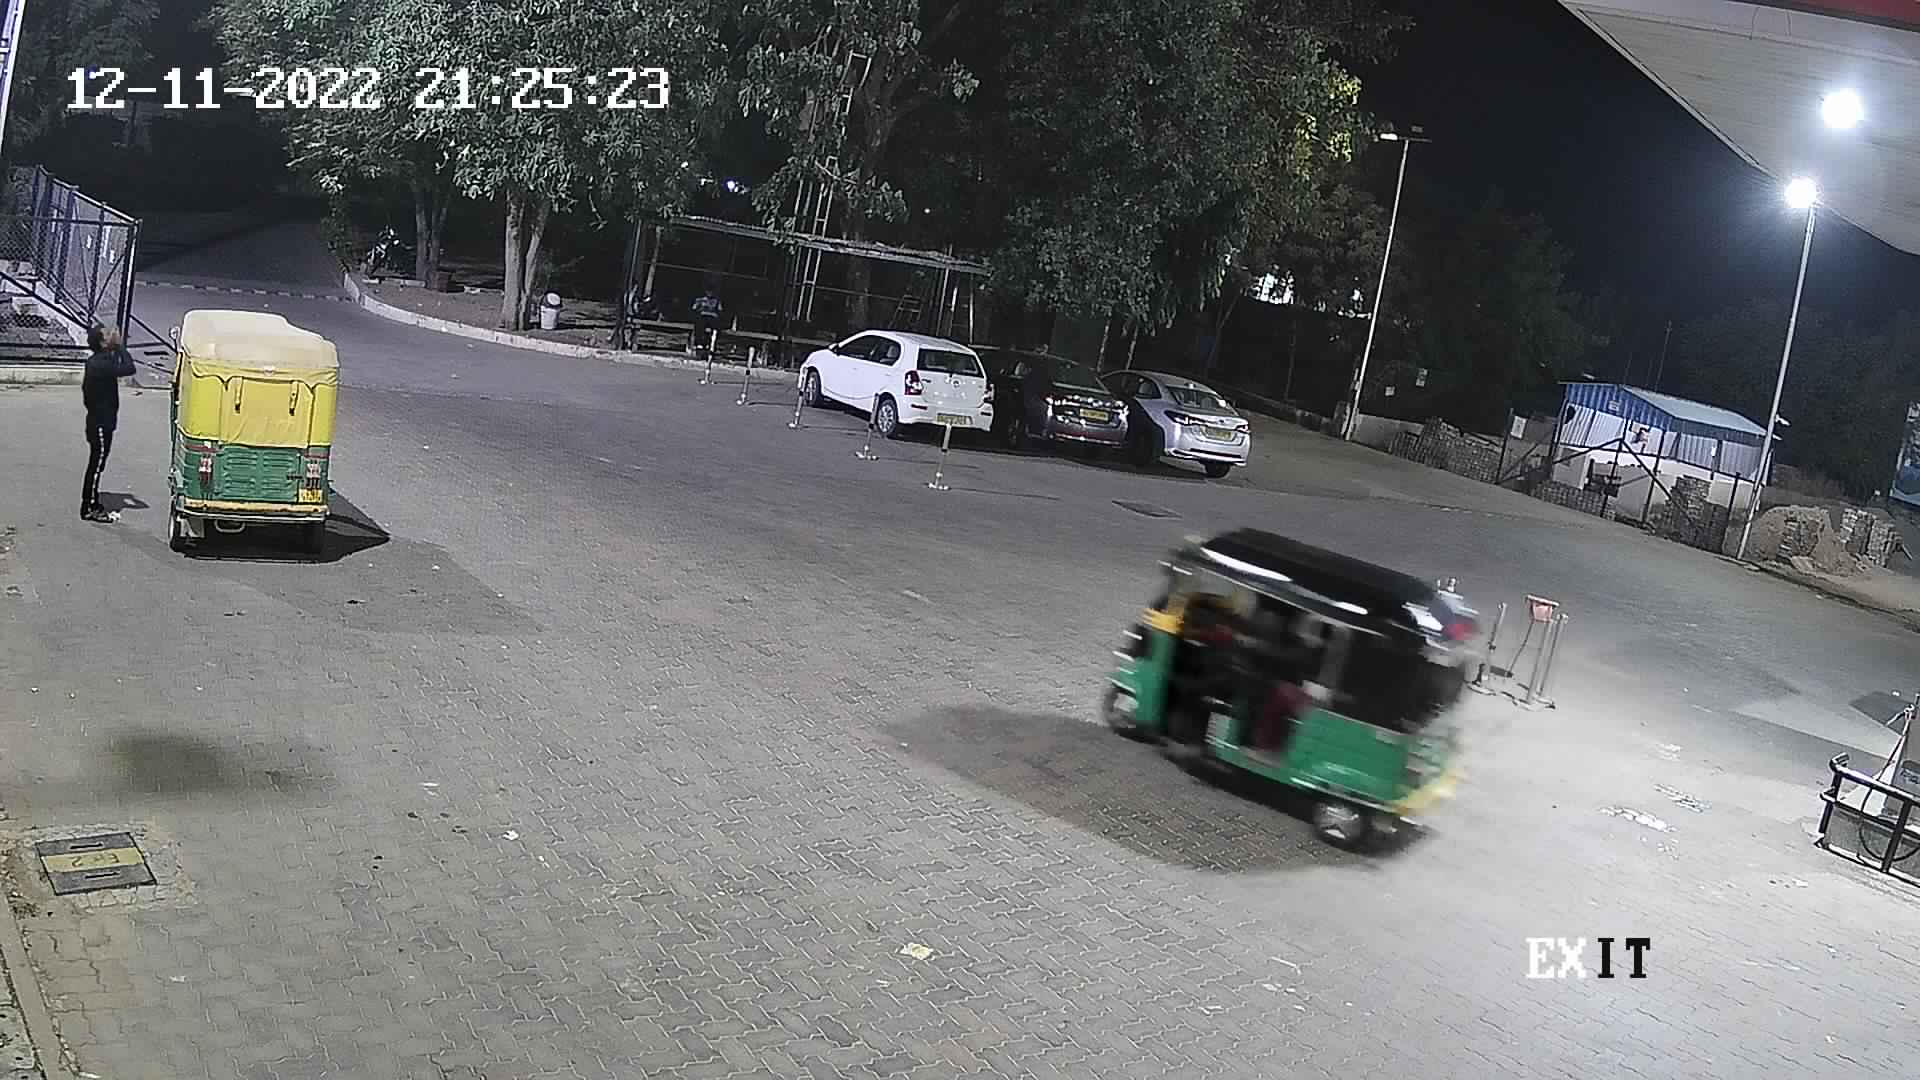Auto: (1095, 520, 1494, 857), (152, 291, 351, 570)
Bike: (344, 200, 426, 287)
Car: (786, 320, 1004, 454), (955, 334, 1138, 473), (1092, 353, 1261, 480)
